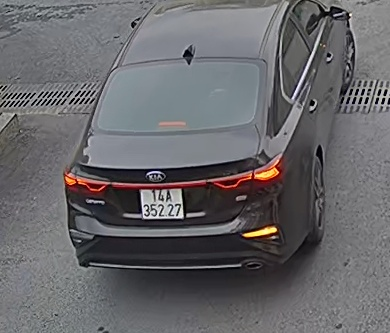vehicle plate: (138, 185, 188, 223)
